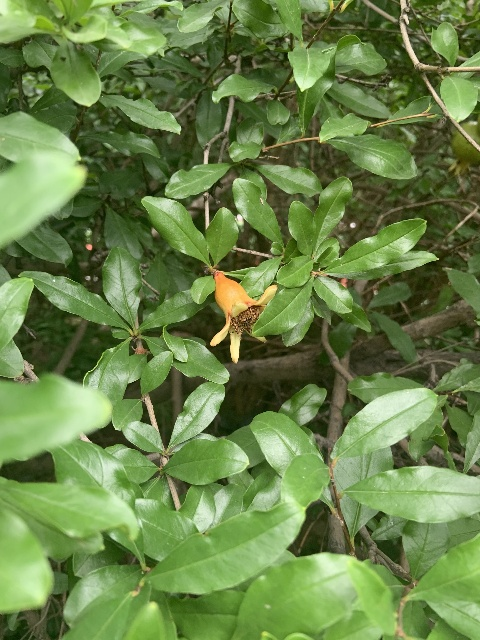early-fruit: (210, 270, 278, 363)
mid-growth: (449, 122, 480, 177)
